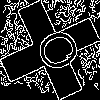O: (25, 25, 83, 80)
